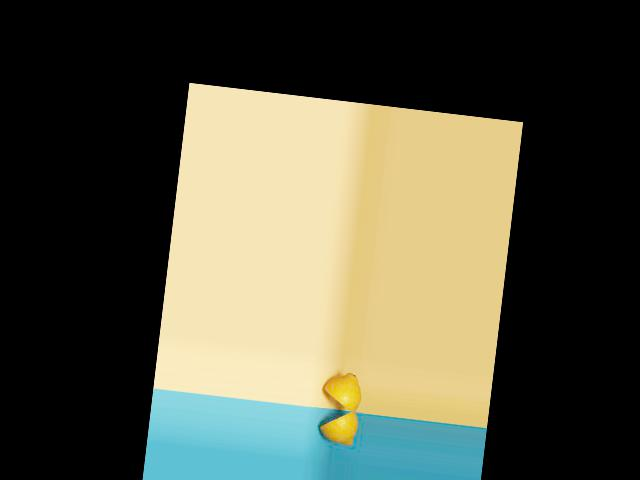lemon: (306, 367, 364, 453)
